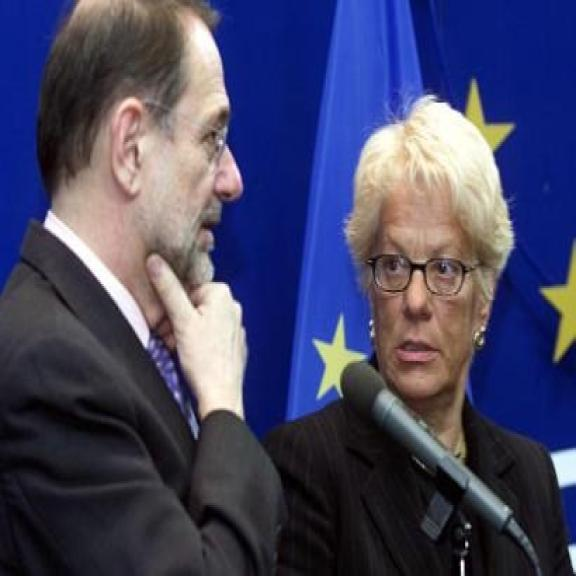face: (111, 15, 248, 304), (360, 193, 494, 404)
